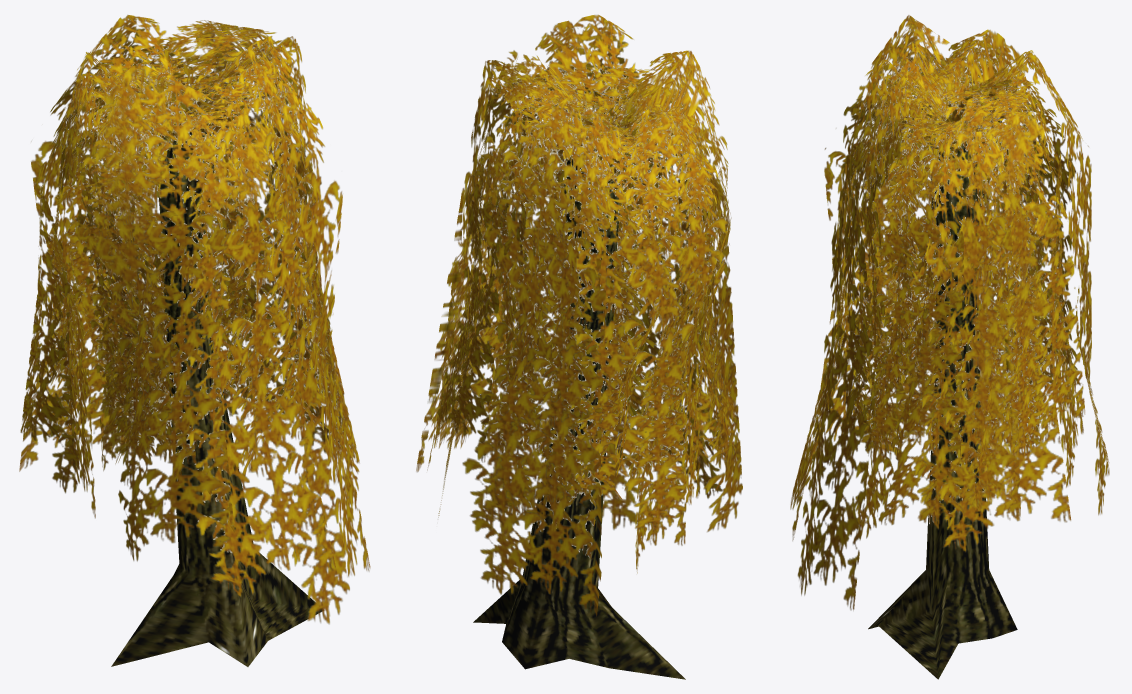
Rendered from stklib_autumnWillow_a_high.glb.
3 renders of one model, left to right at view 1: azimuth 30°, elevation 25°; view 2: azimuth 150°, elevation 25°; view 3: azimuth 270°, elevation 25°, orthographic. The views are drawn at different scales.
Visible parts, largest first — view 1: willow_a.png__, willow_b.png__; view 2: willow_a.png__, willow_b.png__; view 3: willow_a.png__, willow_b.png__.
Boxes of the visible parts, bbox=[...] form: willow_a.png__: bbox=[19, 15, 370, 624]; willow_b.png__: bbox=[111, 128, 322, 666]; willow_a.png__: bbox=[416, 14, 742, 616]; willow_b.png__: bbox=[473, 156, 685, 679]; willow_a.png__: bbox=[790, 15, 1109, 610]; willow_b.png__: bbox=[868, 142, 1017, 679].
Bounding box in the file's own units: 8.24 × 15.51 × 8.29.
Materials: 2 (2 with a texture image).
